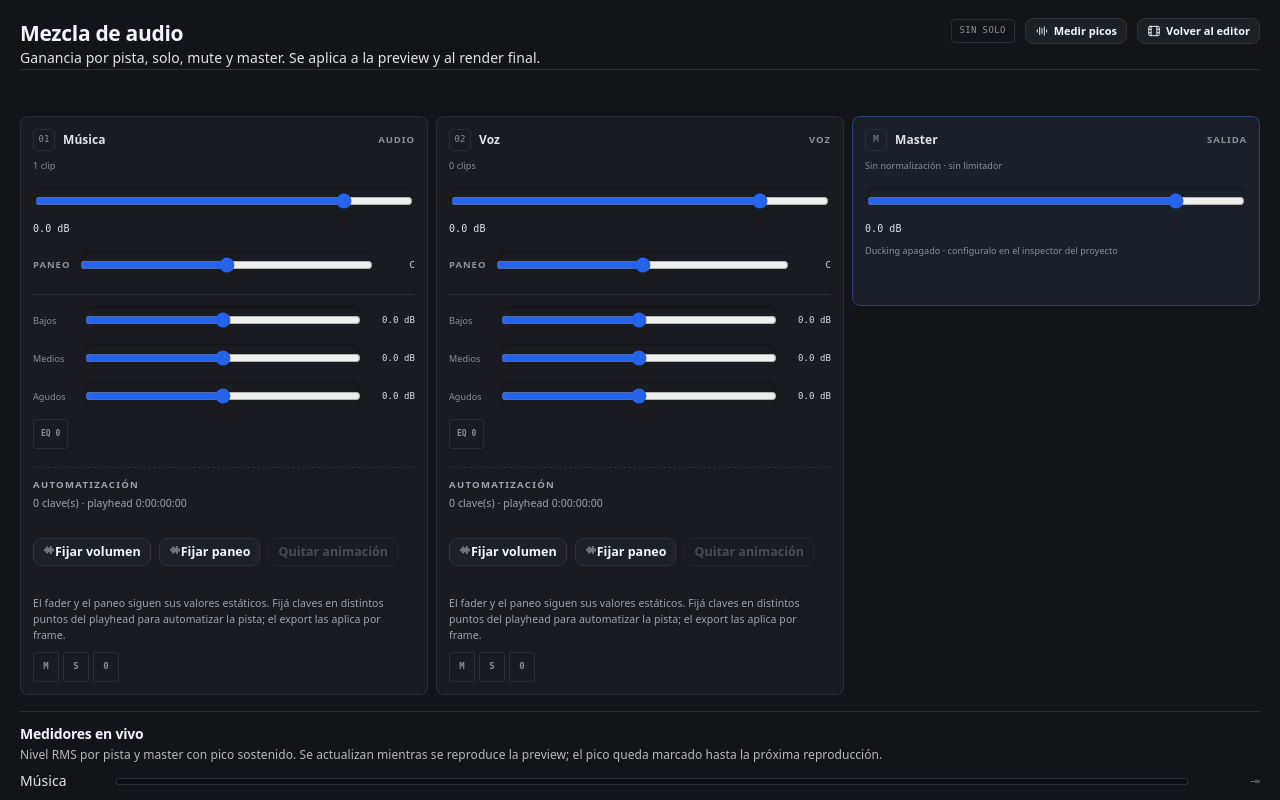
Scenario: vista de mezcla › cambia la ganancia de pista y enciende el solo
The width and height of the screenshot is (1280, 800).
Step 1. Set the slider named "Ganancia de Música" to "-9" → [299, 201], box x1=35 y1=186 x2=413 y2=216
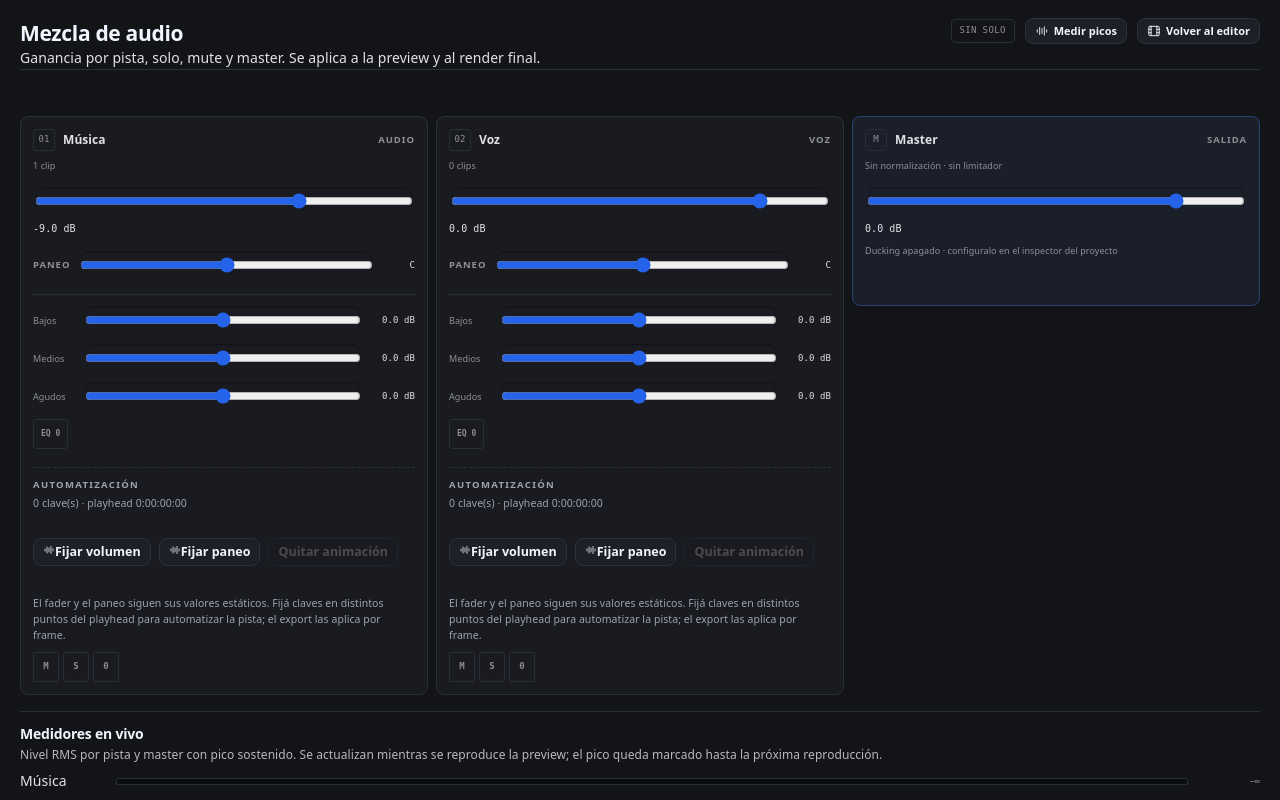
Step 2. Click the button named "Solo Música" → [76, 667], box x1=63 y1=652 x2=89 y2=682
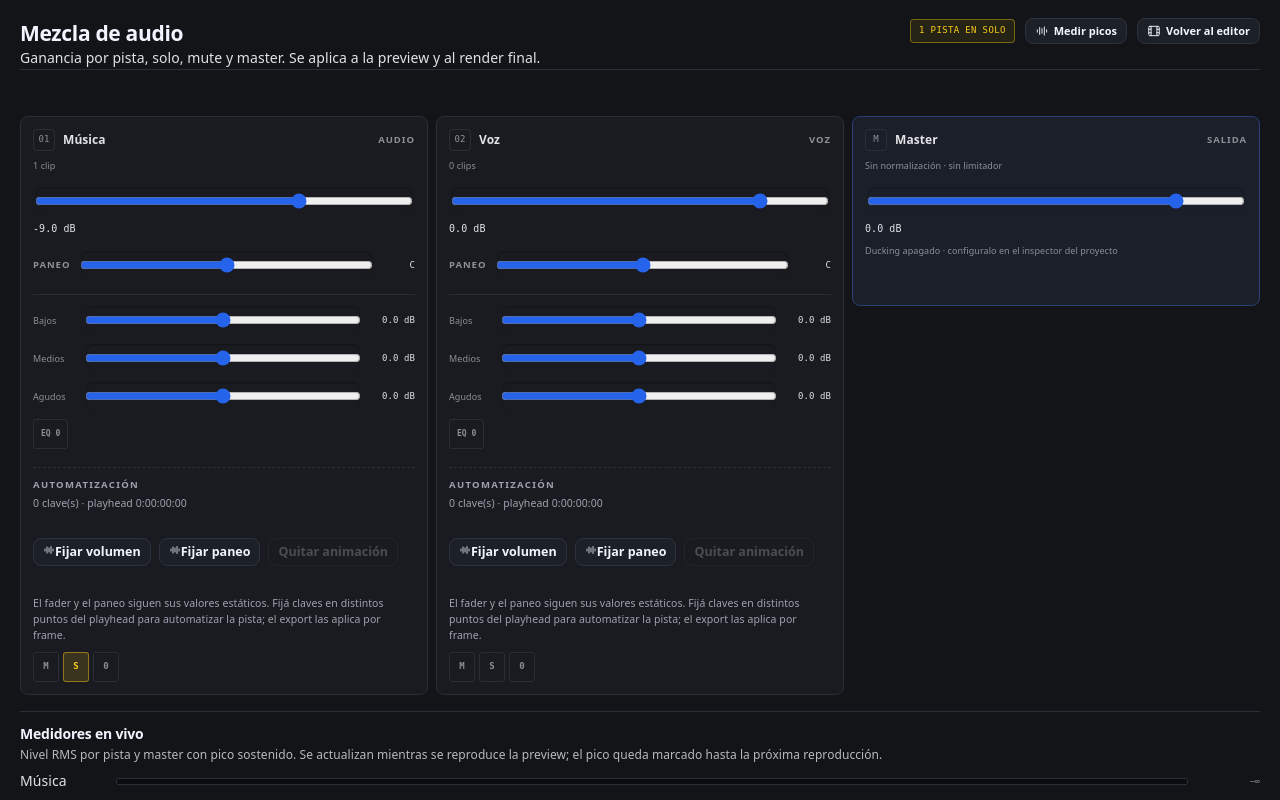
Expected: the text "1 pista en solo" is shown, x1=910 y1=20 x2=1015 y2=42
